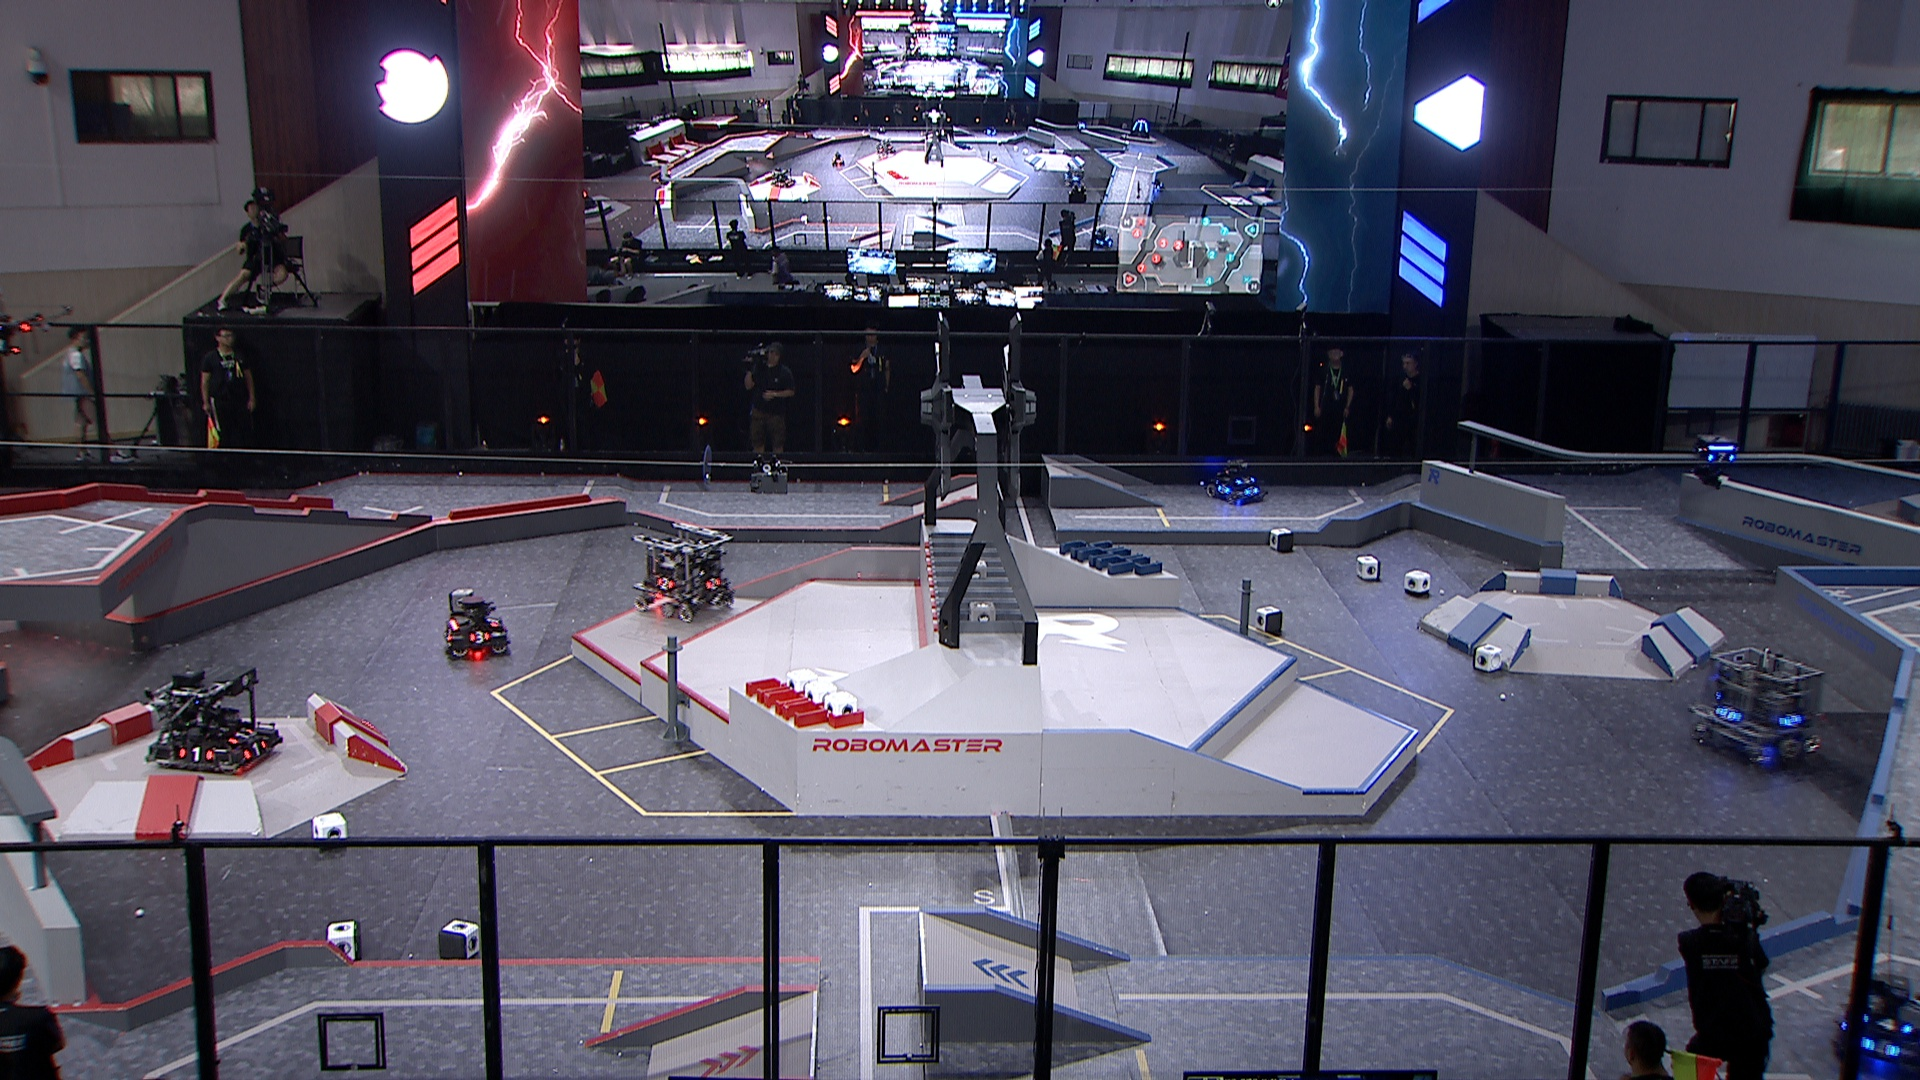armor: (1859, 1014, 1913, 1035), (1861, 1036, 1904, 1060), (174, 744, 214, 764), (1712, 704, 1745, 725), (225, 727, 256, 746), (1778, 713, 1807, 731), (243, 740, 266, 760), (465, 628, 491, 645), (1708, 451, 1735, 465), (1232, 475, 1255, 487), (704, 576, 723, 591), (655, 576, 675, 589), (1216, 481, 1232, 496), (1242, 485, 1259, 498), (442, 626, 455, 644), (487, 615, 501, 629)
car: (1684, 647, 1826, 766), (144, 665, 282, 773), (626, 520, 735, 622), (1826, 973, 1920, 1080), (439, 585, 510, 657), (1205, 462, 1266, 508)
ignore: (1091, 224, 1116, 248), (1062, 162, 1087, 185), (770, 167, 796, 189), (1129, 117, 1153, 138), (874, 138, 895, 157), (829, 150, 847, 167)
watcher: (1691, 433, 1741, 489)
